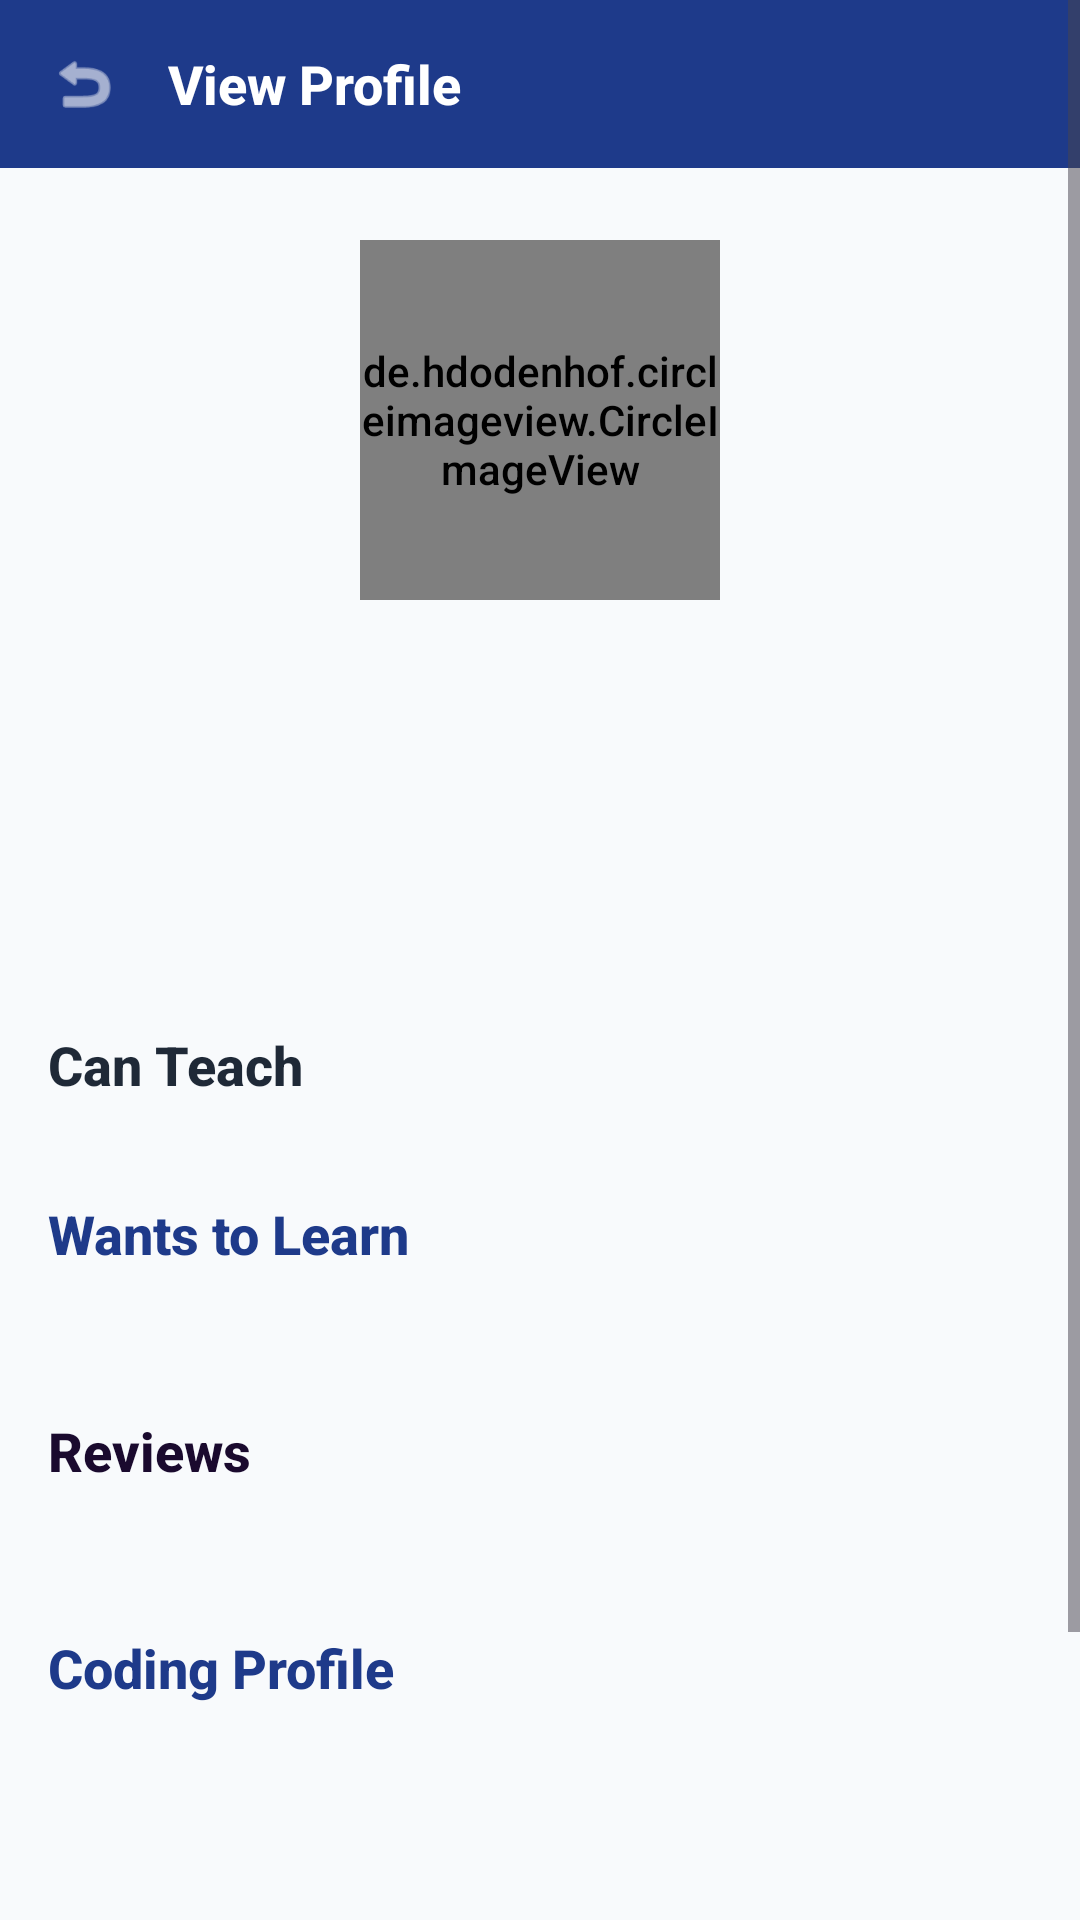

Point at icon controls on the screen. Image size 1080 × 1920, points as (x=x, y=y).
Back: (x=85, y=84)
